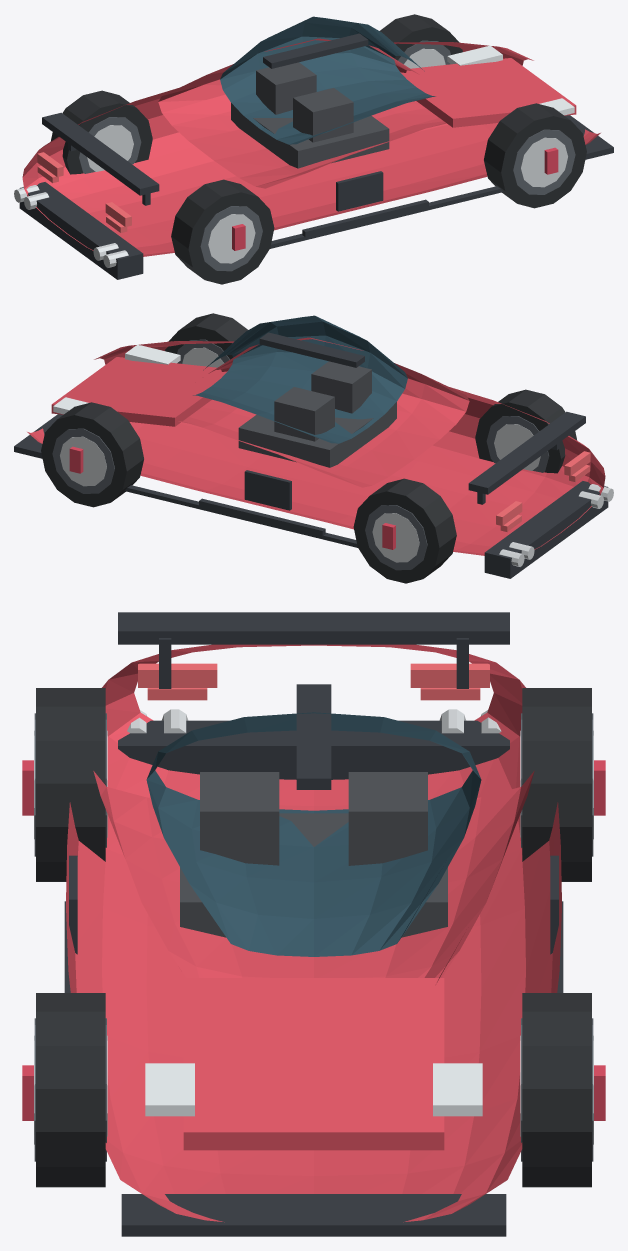
The model's file is motor_aero_25.glb.
3 renders of one model, top to bottom at view 1: azimuth 30°, elevation 25°; view 2: azimuth 150°, elevation 25°; view 3: azimuth 270°, elevation 25°, orthographic. The views are drawn at different scales.
Parts seen in each view (by area): view 1: BodyShell, Tires, CarbonAero, CanopyGlass, UpperBody, Interior, FrontHood, BrakeDiscs, Rims, Taillights, Headlights, Exhaust (+1 smaller); view 2: BodyShell, Tires, CarbonAero, CanopyGlass, UpperBody, Interior, FrontHood, BrakeDiscs, Rims, Taillights, Headlights, Exhaust (+1 smaller); view 3: BodyShell, Tires, CarbonAero, FrontHood, CanopyGlass, UpperBody, Interior, Headlights, Taillights, BrakeCalipers, Rims, Exhaust.
Part boxes in pixels (left/top/right/bottom): BodyShell: left=22, top=42, right=600, bottom=256; Tires: left=50, top=14, right=586, bottom=284; CarbonAero: left=19, top=33, right=613, bottom=279; CanopyGlass: left=220, top=16, right=435, bottom=144; UpperBody: left=158, top=38, right=446, bottom=188; Interior: left=231, top=62, right=389, bottom=168; FrontHood: left=400, top=58, right=576, bottom=127; BrakeDiscs: left=87, top=48, right=567, bottom=263; Rims: left=79, top=40, right=575, bottom=271; Taillights: left=37, top=152, right=131, bottom=232; Headlights: left=447, top=45, right=574, bottom=115; Exhaust: left=14, top=185, right=128, bottom=267; BodyShell: left=27, top=341, right=605, bottom=555; Tires: left=41, top=313, right=577, bottom=583; CarbonAero: left=14, top=332, right=608, bottom=578; CanopyGlass: left=193, top=315, right=407, bottom=443; UpperBody: left=178, top=337, right=469, bottom=487; Interior: left=238, top=361, right=396, bottom=467; FrontHood: left=51, top=357, right=227, bottom=426; BrakeDiscs: left=60, top=347, right=540, bottom=562; Rims: left=52, top=339, right=548, bottom=570; Taillights: left=496, top=451, right=590, bottom=531; Headlights: left=53, top=344, right=180, bottom=414; Exhaust: left=499, top=484, right=613, bottom=566; BodyShell: left=66, top=644, right=561, bottom=1222; Tires: left=36, top=688, right=591, bottom=1187; CarbonAero: left=64, top=612, right=563, bottom=1236; FrontHood: left=183, top=978, right=444, bottom=1150; CanopyGlass: left=146, top=712, right=481, bottom=956; UpperBody: left=93, top=771, right=534, bottom=982; Interior: left=180, top=772, right=447, bottom=937; Headlights: left=145, top=1063, right=482, bottom=1116; Taillights: left=138, top=663, right=489, bottom=700; BrakeCalipers: left=22, top=760, right=605, bottom=1120; Rims: left=34, top=713, right=593, bottom=1161; Exhaust: left=127, top=709, right=501, bottom=733.
Size of the model in its own units: 4.69 by 1.42 by 2.35.
